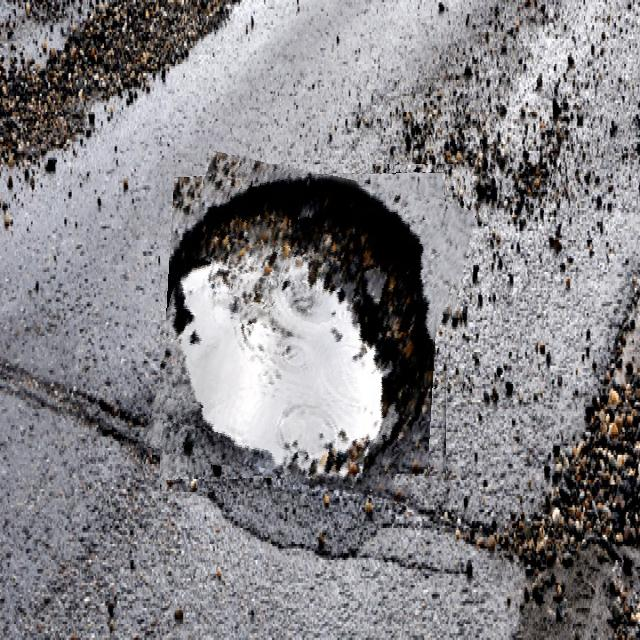Pothole: (160, 164, 461, 493)
